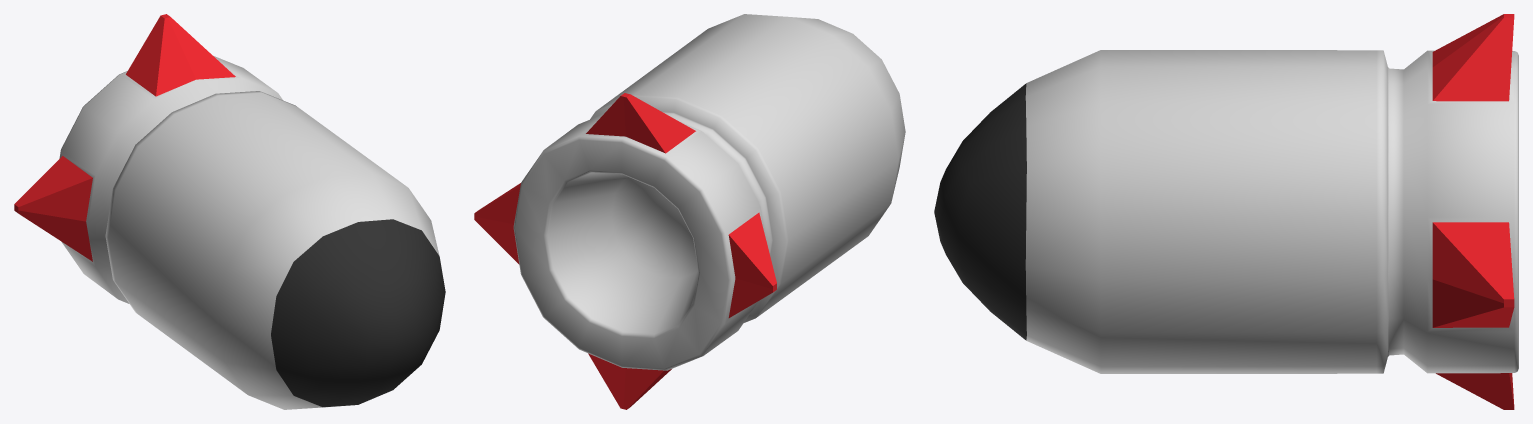
The model's file is bullet.fbx.
The picture shows the model from 3 angles, left to right: view 1: azimuth 30°, elevation 25°; view 2: azimuth 150°, elevation 25°; view 3: azimuth 270°, elevation 25°; orthographic projection. The views are drawn at different scales.
Visible parts, largest first — view 1: Cube; view 2: Cube; view 3: Cube.
Part boxes in pixels (box(x1,y1,x2,y2)): Cube: box(14, 14, 445, 409); Cube: box(474, 14, 905, 409); Cube: box(934, 14, 1518, 409).
Bounding box in the file's own units: 0.773 × 0.773 × 1.04.
